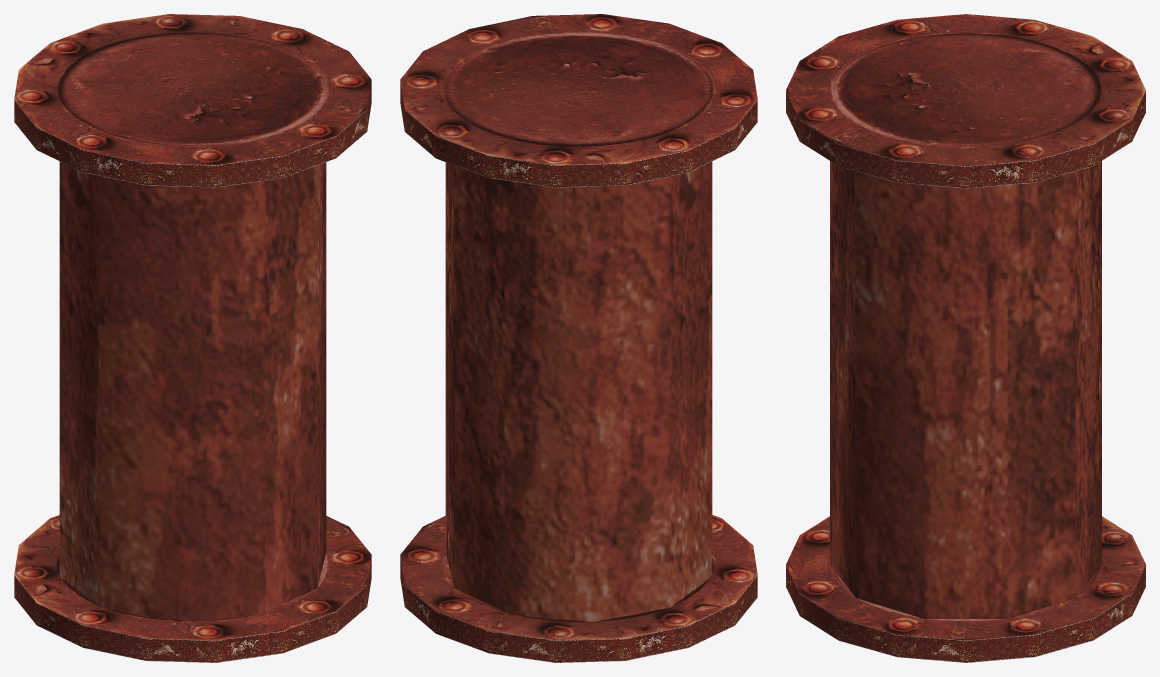
File: 1m_red.DAE
3 views of the same model, side by side, from view 1: azimuth 30°, elevation 25°; view 2: azimuth 150°, elevation 25°; view 3: azimuth 270°, elevation 25° (orthographic).
Parts seen in each view (by area): view 1: Object360, Object368; view 2: Object360, Object368; view 3: Object360, Object368.
Part boxes in pixels (x1=…): Object360: x1=59, y1=161, x2=326, y2=621; Object368: x1=14, y1=14, x2=371, y2=662; Object360: x1=445, y1=161, x2=712, y2=621; Object368: x1=400, y1=14, x2=757, y2=662; Object360: x1=830, y1=161, x2=1101, y2=618; Object368: x1=786, y1=14, x2=1145, y2=662.
Bounding box in the file's own units: 0.6566 × 0.6566 × 1.
